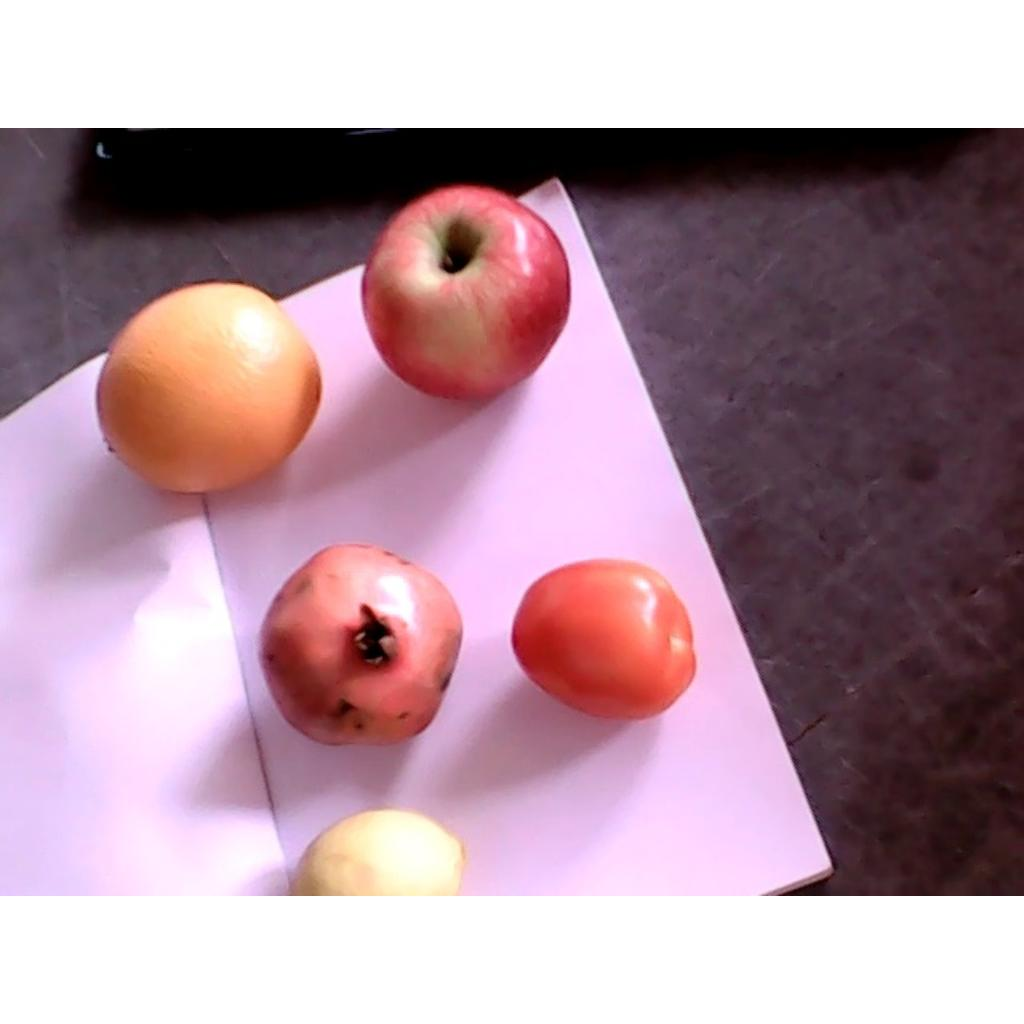apple: (361, 186, 571, 408)
lemon: (289, 810, 467, 894)
orange: (95, 281, 322, 498)
pomegranate: (259, 543, 462, 747)
tomato: (512, 558, 697, 719)
